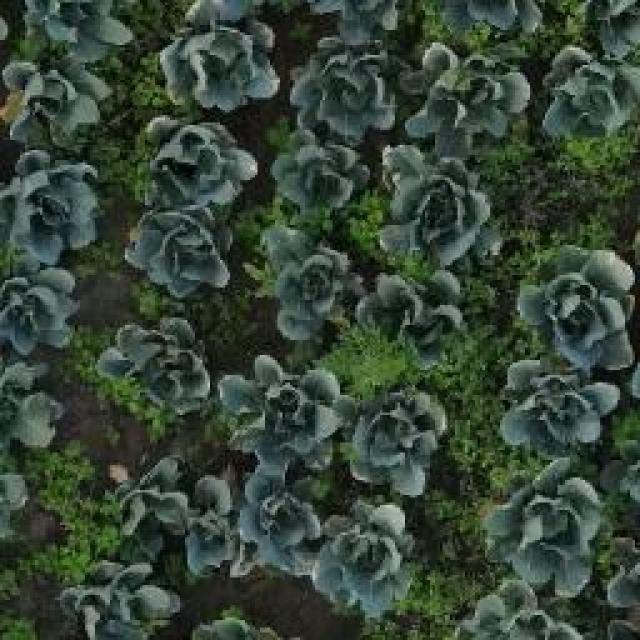cabbage: (488, 464, 612, 606), (372, 145, 501, 262), (401, 39, 533, 152), (516, 244, 636, 364), (220, 350, 342, 467), (152, 0, 280, 110), (0, 140, 105, 265), (94, 314, 218, 416), (343, 383, 451, 499), (285, 30, 399, 139), (121, 199, 239, 301), (262, 226, 366, 339), (500, 355, 621, 448), (140, 114, 258, 208), (0, 43, 114, 140), (542, 37, 640, 146), (232, 466, 330, 572), (367, 264, 475, 360), (59, 558, 182, 640), (324, 510, 418, 606), (272, 128, 373, 216), (0, 260, 85, 358), (115, 453, 187, 554), (180, 471, 238, 576)
